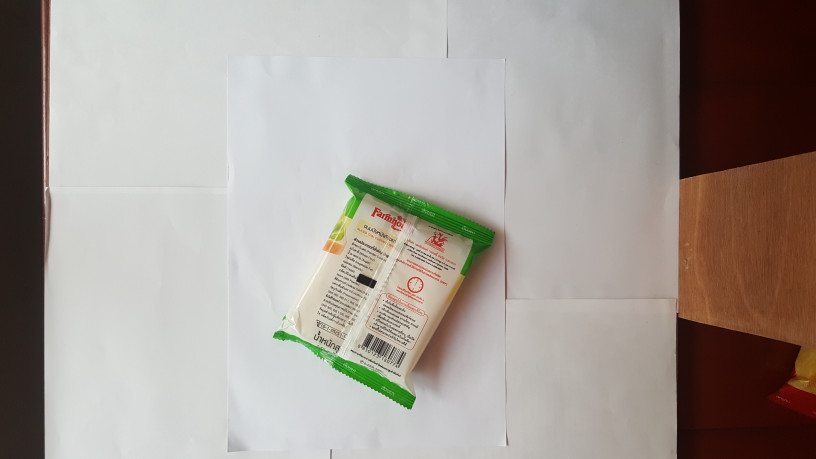farmhouse-bread-pandan: (265, 165, 504, 414)
